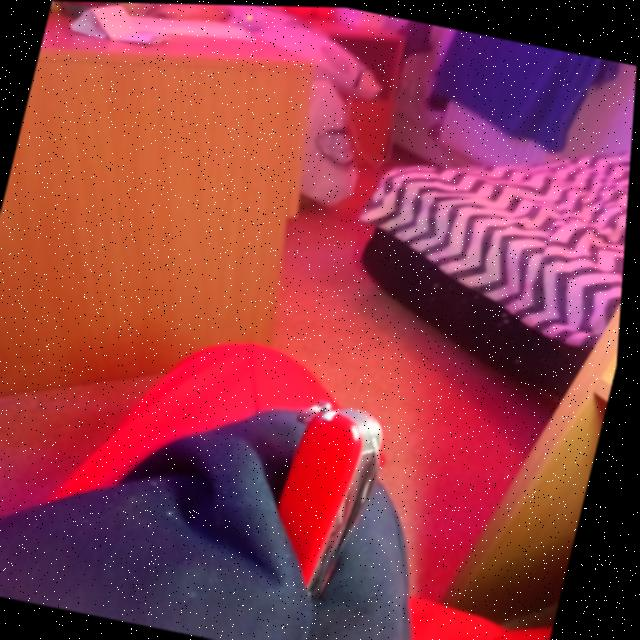knife victorinox: (285, 401, 388, 596)
